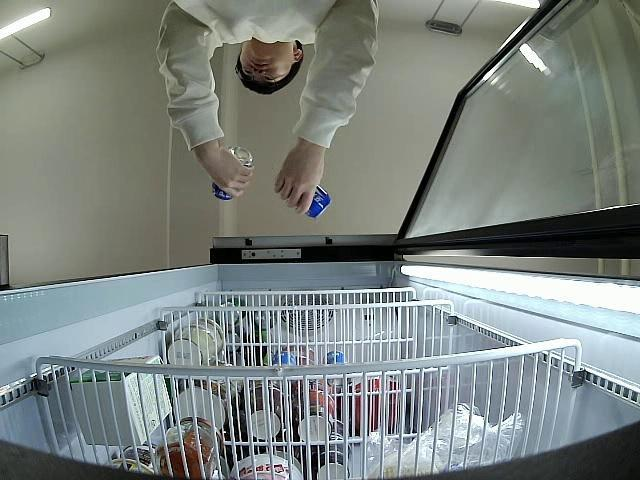13_pocariSweat: (213, 147, 250, 200), (303, 182, 332, 220)
